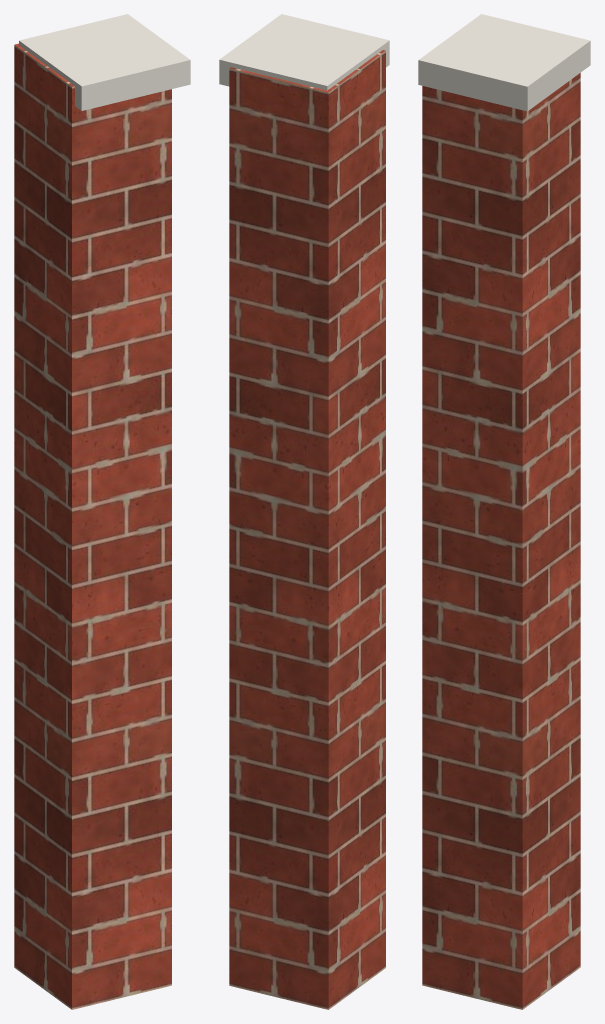
The model's file is corner_brick.glb.
3 views of the same model, side by side, from view 1: azimuth 30°, elevation 25°; view 2: azimuth 150°, elevation 25°; view 3: azimuth 330°, elevation 25° (orthographic).
Visible parts, largest first — view 1: corner_brick_brick, corner_brick_trim; view 2: corner_brick_brick, corner_brick_trim; view 3: corner_brick_brick, corner_brick_trim.
Boxes of the visible parts, x1,y1,x2,y2 form: corner_brick_brick: [14, 43, 171, 1009]; corner_brick_trim: [19, 14, 190, 110]; corner_brick_brick: [229, 50, 385, 1009]; corner_brick_trim: [219, 14, 389, 90]; corner_brick_brick: [422, 73, 580, 1009]; corner_brick_trim: [418, 14, 590, 111].
Bounding box in the file's own units: 0.38 × 3.02 × 0.38.
2 materials, 1 textured.
